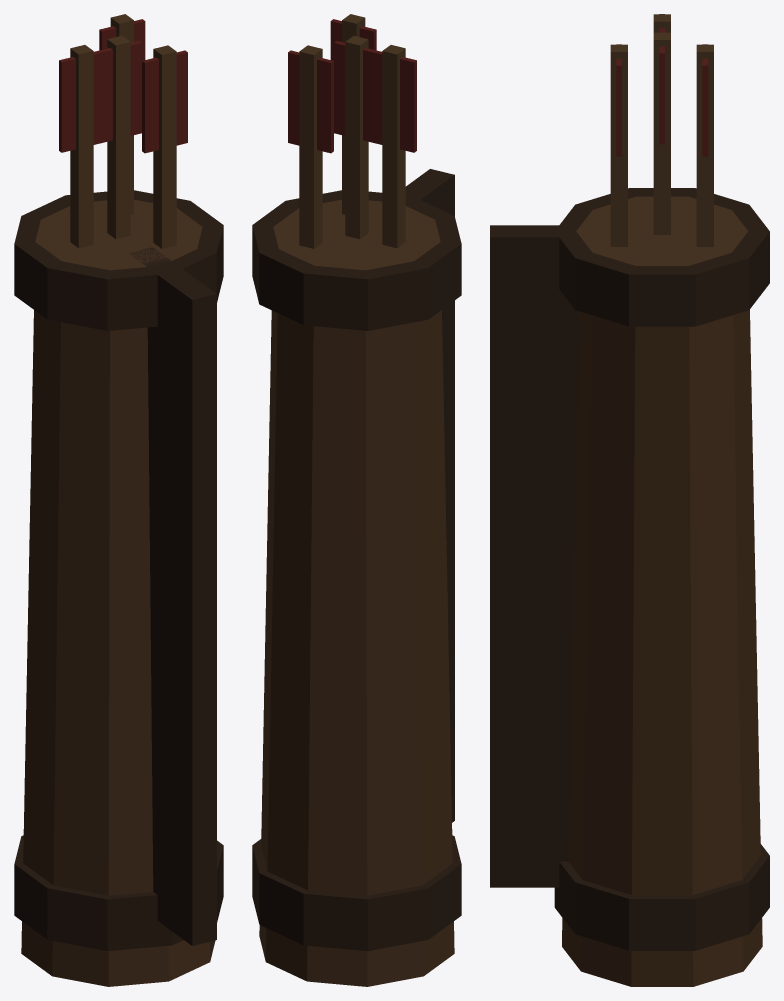
File: quiver.glb
3 renders of one model, left to right at view 1: azimuth 30°, elevation 25°; view 2: azimuth 150°, elevation 25°; view 3: azimuth 270°, elevation 25°, orthographic.
Parts seen in each view (by area): view 1: Quiver; view 2: Quiver; view 3: Quiver.
Part boxes in pixels (x1,y1,x2,y2): Quiver: [14, 14, 223, 986]; Quiver: [252, 14, 461, 986]; Quiver: [490, 14, 769, 986].
Size of the model in its own units: 0.1427 by 0.7 by 0.195.
